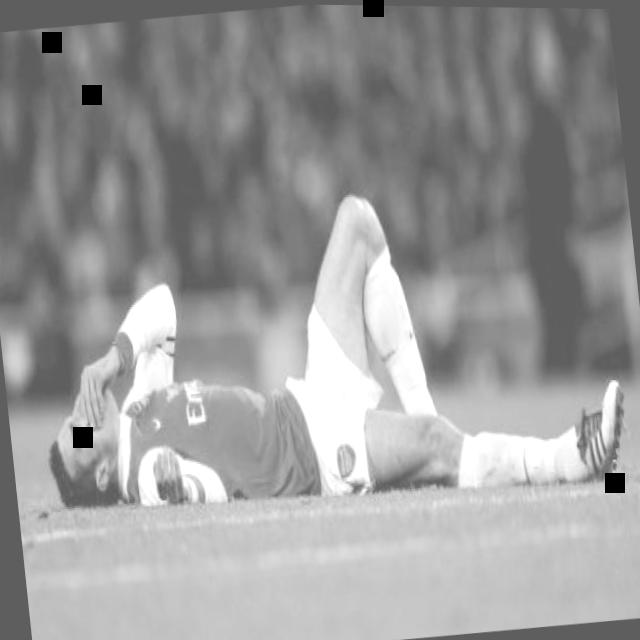Fall-Detected: (10, 146, 632, 524)
